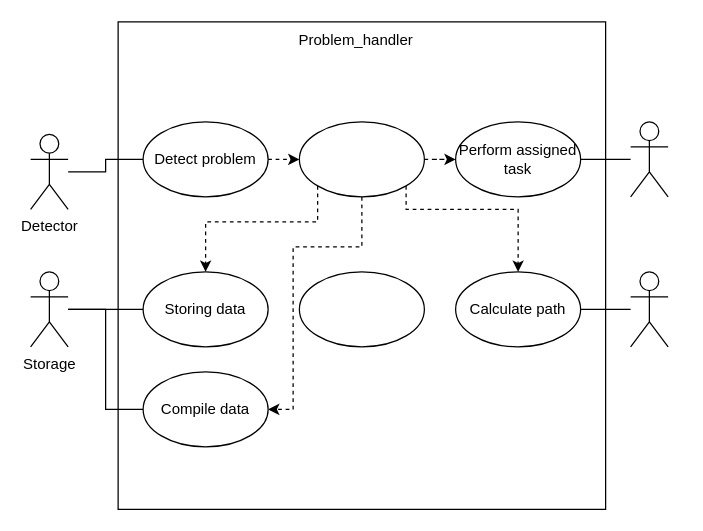
The diagram is 703 pixels wide and 531 high, and some of its shapes have lost their labels. The shapes that lost their labels are listed below. From the top down, each one's centre as x and y in pixels, then its label:
[361,159]: Find solution
[648,159]: Actuator
[361,309]: Communication
[648,309]: Navigator
